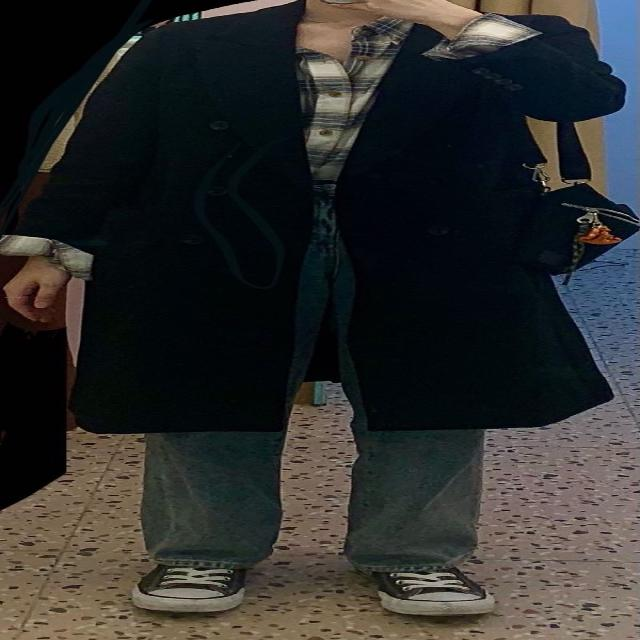coat: (20, 6, 640, 448)
denimpants: (138, 200, 497, 566)
